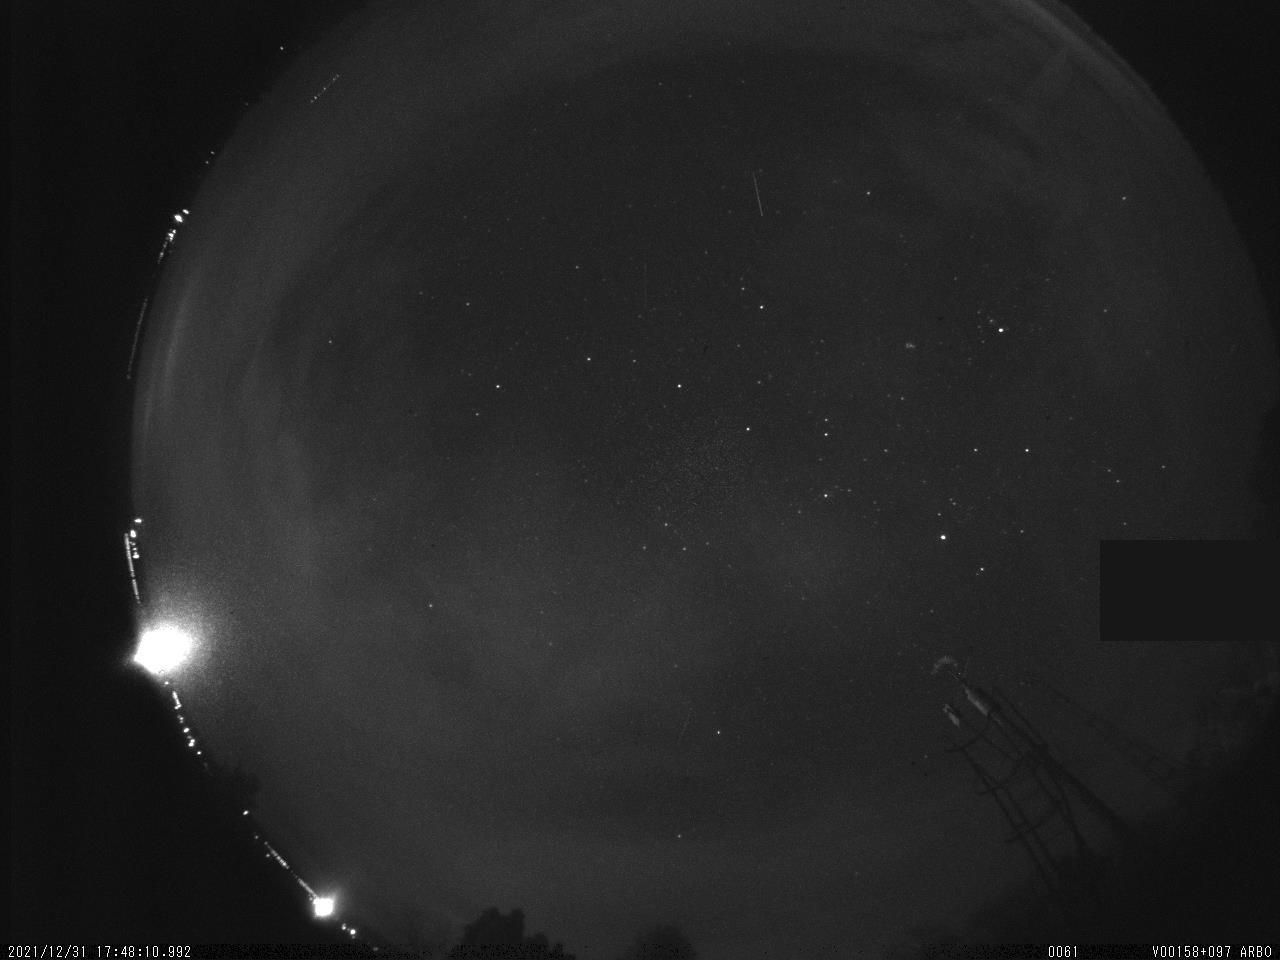meteor: (746, 163, 773, 227)
